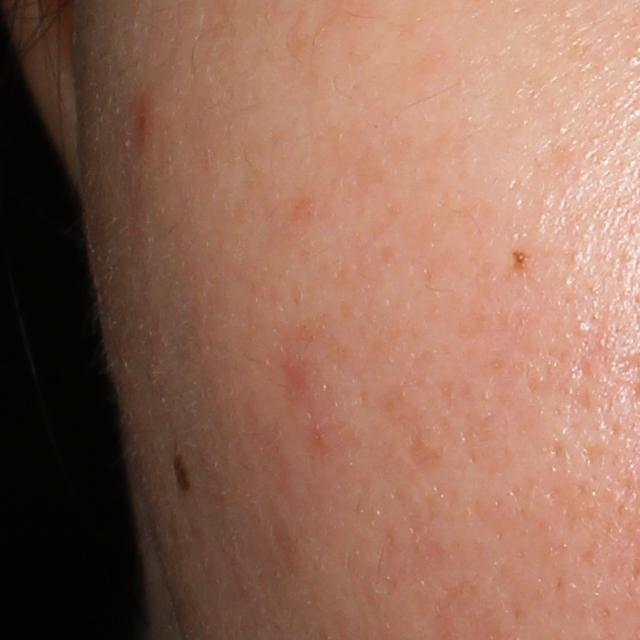nevus: (171, 451, 194, 494), (510, 246, 534, 276)
papule: (136, 102, 155, 144)
